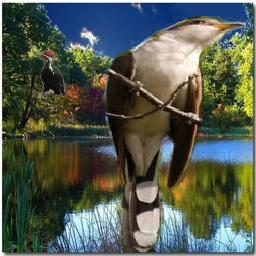Cuckoo: (102, 17, 246, 254)
Woodpecker: (33, 48, 65, 99)
